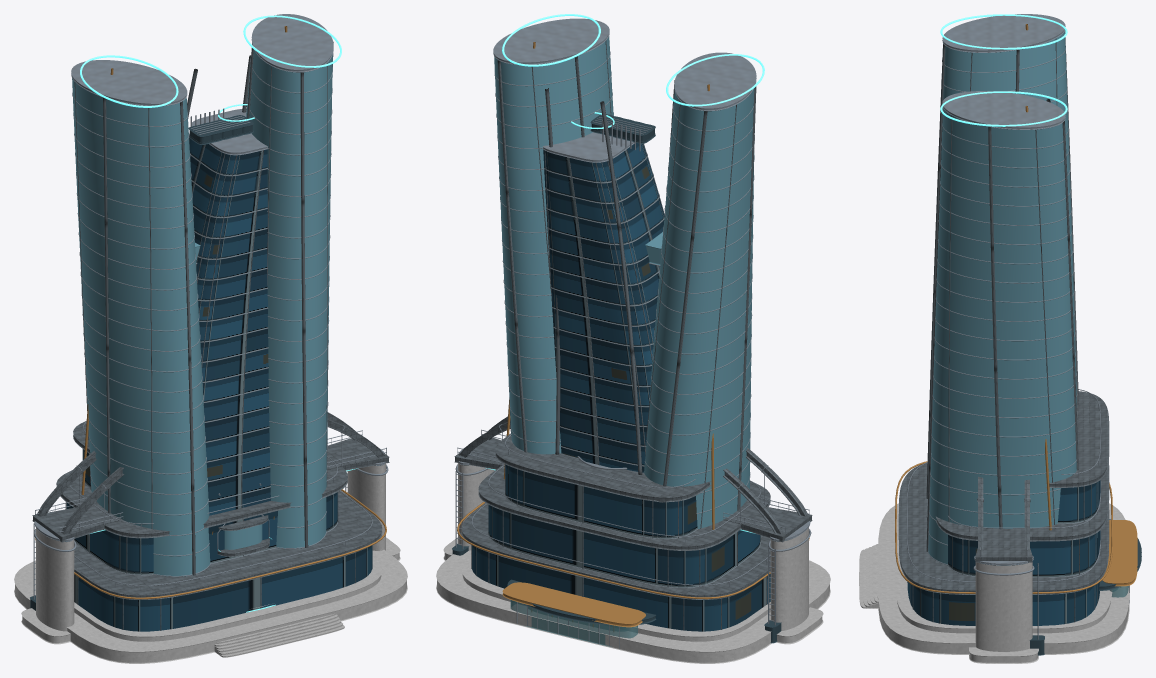
File: city-services.glb
3 renders of one model, left to right at view 1: azimuth 30°, elevation 25°; view 2: azimuth 150°, elevation 25°; view 3: azimuth 270°, elevation 25°, orthographic. The views are drawn at different scales.
Parts seen in each view (by area): view 1: Helix connecting sky lobby.002, Aster glazing.001, Marina storey glazing.003, Helix sky lobby rim.002, Marina balcony roof.003, Marina curved podium.001, Helix structural sweep.008, Lumen pier foundation.002, Lumen coated I-section arch.002, Helix crescent plaza.001, Aster arrival portico.001, Aster swept crown.002 (+7 smaller); view 2: Helix connecting sky lobby.002, Aster glazing.001, Marina storey glazing.003, Marina balcony roof.003, Helix sky lobby rim.002, Marina curved podium.001, Helix structural sweep.008, Lumen pier foundation.002, Lumen coated I-section arch.002, Aster arrival portico.001, Aster swept crown.002, Marina storefront portico.001 (+7 smaller); view 3: Helix connecting sky lobby.002, Marina balcony roof.003, Helix sky lobby rim.002, Marina storey glazing.003, Marina curved podium.001, Helix structural sweep.008, Lumen pier foundation.002, Marina storefront portico.001, Helix crescent plaza.001, Lumen coated I-section arch.002, Helix communications crown.002, Atrium skylight frame.001 (+1 smaller).
Part boxes in pixels (x1,y1,x2,y2): Helix connecting sky lobby.002: (72,44,332,576); Aster glazing.001: (189,138,270,515); Marina storey glazing.003: (66,449,372,631); Helix sky lobby rim.002: (71,14,333,576); Marina balcony roof.003: (56,421,382,630); Marina curved podium.001: (14,549,407,663); Helix structural sweep.008: (74,42,333,575); Lumen pier foundation.002: (21,463,400,644); Lumen coated I-section arch.002: (32,412,389,542); Helix crescent plaza.001: (74,556,382,641); Aster arrival portico.001: (190,108,270,502); Aster swept crown.002: (187,55,263,508); Helix connecting sky lobby.002: (494,36,754,528); Aster glazing.001: (543,143,664,472); Marina storey glazing.003: (472,465,770,631); Marina balcony roof.003: (461,433,770,630); Helix sky lobby rim.002: (493,18,756,514); Marina curved podium.001: (436,550,830,663); Helix structural sweep.008: (497,40,756,528); Lumen pier foundation.002: (443,463,823,644); Lumen coated I-section arch.002: (454,416,812,542); Aster arrival portico.001: (542,115,664,466); Aster swept crown.002: (544,88,664,474); Marina storefront portico.001: (457,502,809,627); Helix connecting sky lobby.002: (928,31,1076,564); Marina balcony roof.003: (898,391,1109,622); Helix sky lobby rim.002: (928,14,1077,565); Marina storey glazing.003: (907,480,1100,625); Marina curved podium.001: (859,503,1129,654); Helix structural sweep.008: (926,30,1078,551); Lumen pier foundation.002: (969,562,1038,663); Marina storefront portico.001: (895,461,1137,593); Helix crescent plaza.001: (895,522,1112,633); Lumen coated I-section arch.002: (975,476,1032,562); Helix communications crown.002: (940,14,1067,126); Atrium skylight frame.001: (906,389,1129,603).
Bounding box in the file's own units: 69.36 × 99.99 × 49.64.
11 materials, 5 textured.
